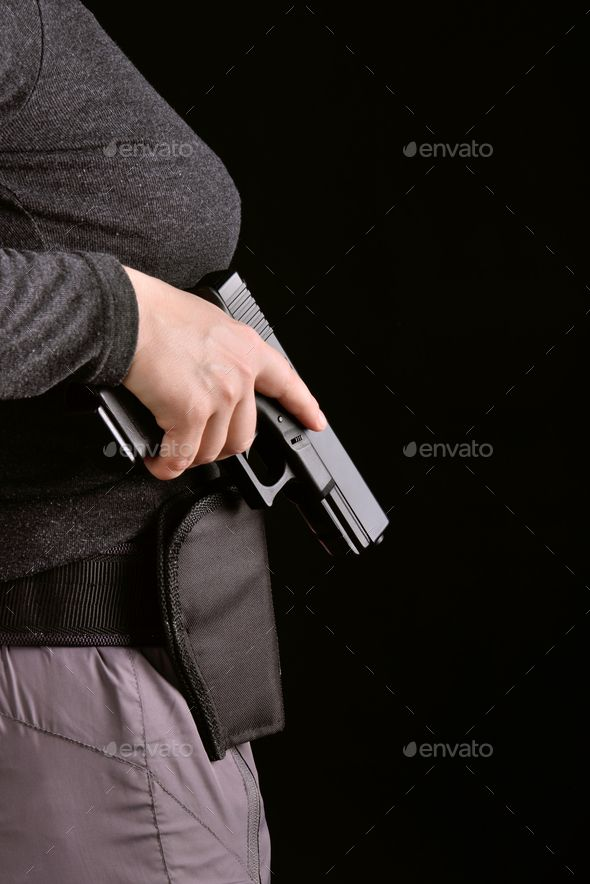gun: (89, 267, 395, 579)
